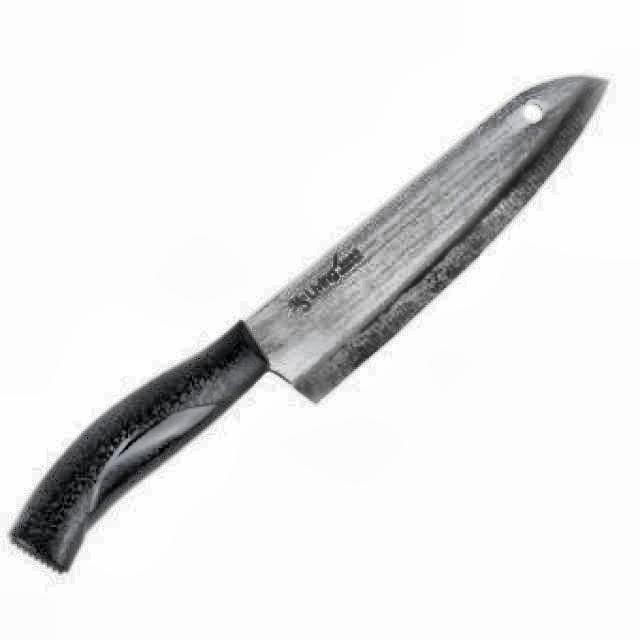knife: (11, 69, 611, 576)
